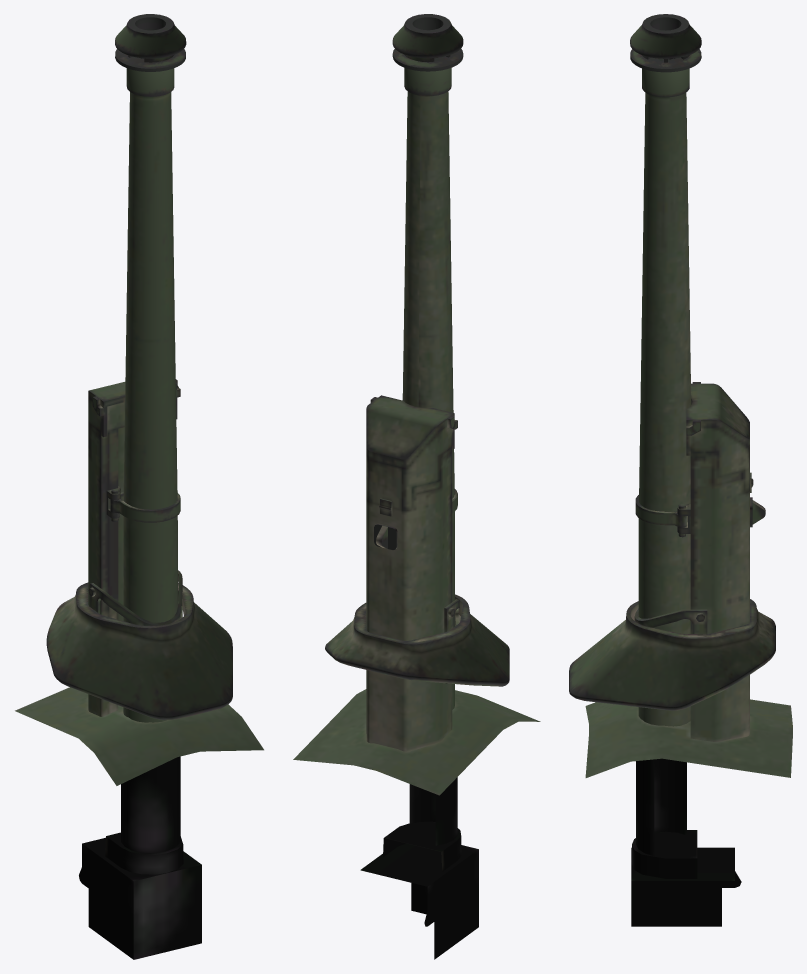
File: Gun_02.glb
3 renders of one model, left to right at view 1: azimuth 30°, elevation 25°; view 2: azimuth 150°, elevation 25°; view 3: azimuth 270°, elevation 25°, orthographic.
Parts seen in each view (by area): view 1: set_0_group_0; view 2: set_0_group_0; view 3: set_0_group_0.
Part boxes in pixels (x1,y1,x2,y2): set_0_group_0: (15, 14, 263, 959); set_0_group_0: (293, 14, 540, 959); set_0_group_0: (569, 14, 792, 926).
Bounding box in the file's own units: 0.6087 × 3.08 × 0.679.
Materials: 1 (1 with a texture image).
